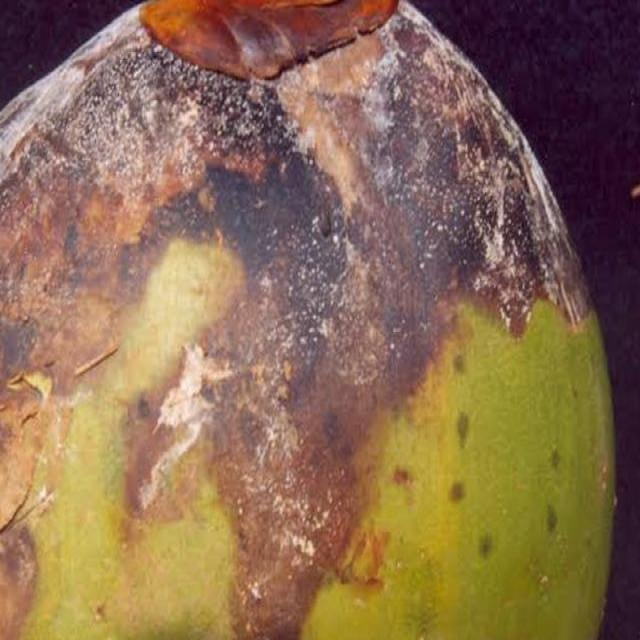damaged: (0, 0, 614, 639)
